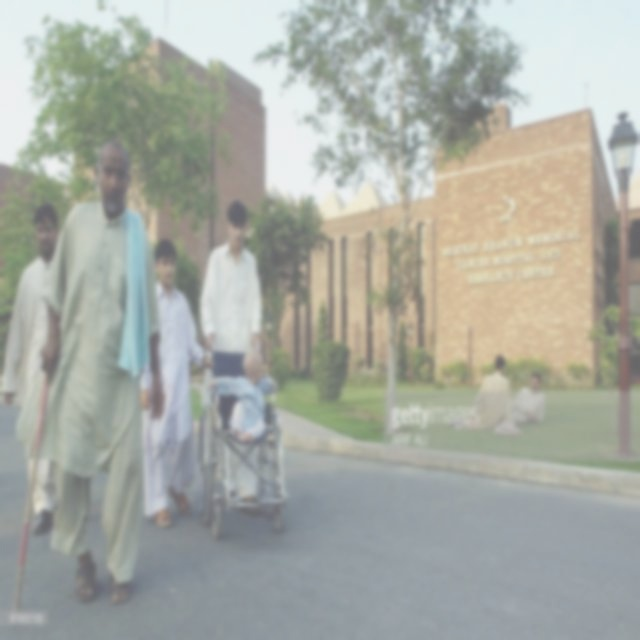pessoa: (10, 134, 169, 620), (196, 196, 269, 516), (139, 236, 214, 528), (1, 202, 62, 535), (204, 348, 280, 446), (448, 354, 514, 431), (502, 371, 546, 427), (196, 339, 206, 386)
